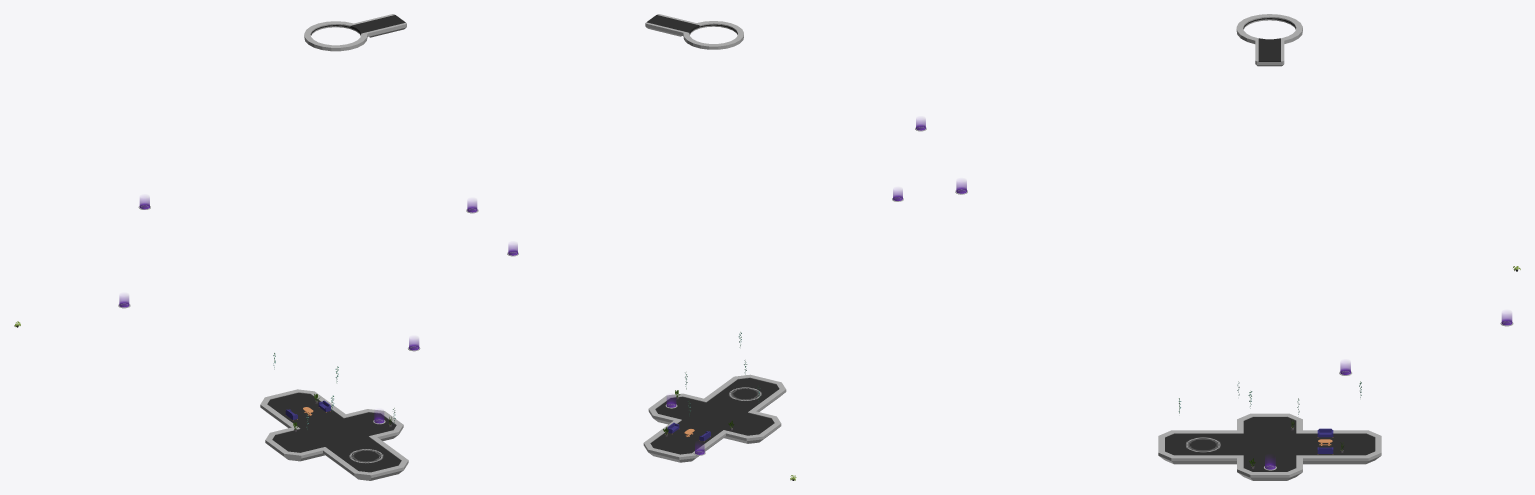
File: expanse.glb
3 views of the same model, side by side, from view 1: azimuth 30°, elevation 25°; view 2: azimuth 150°, elevation 25°; view 3: azimuth 270°, elevation 25° (orthographic). The views are drawn at different scales.
Parts seen in each view (by area): view 1: Entry, JumperTop; view 2: Entry, JumperTop; view 3: Entry, JumperTop.
Part boxes in pixels (bbox=[...]): Entry: bbox=[260, 389, 408, 480]; JumperTop: bbox=[304, 14, 406, 51]; Entry: bbox=[643, 374, 786, 462]; JumperTop: bbox=[645, 14, 743, 49]; Entry: bbox=[1158, 413, 1381, 480]; JumperTop: bbox=[1236, 14, 1302, 66].
Size of what is drawn, in the model's own units: 70.31 by 71.48 by 86.04.
13 materials, 3 textured.
